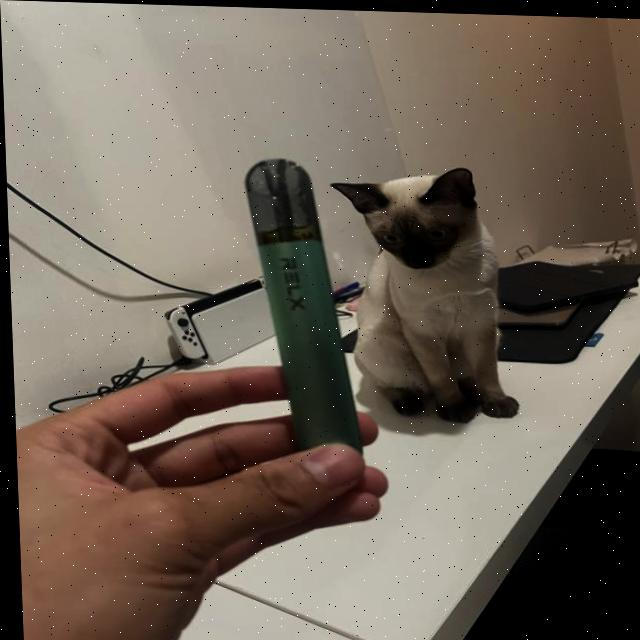vape: (239, 156, 362, 450)
